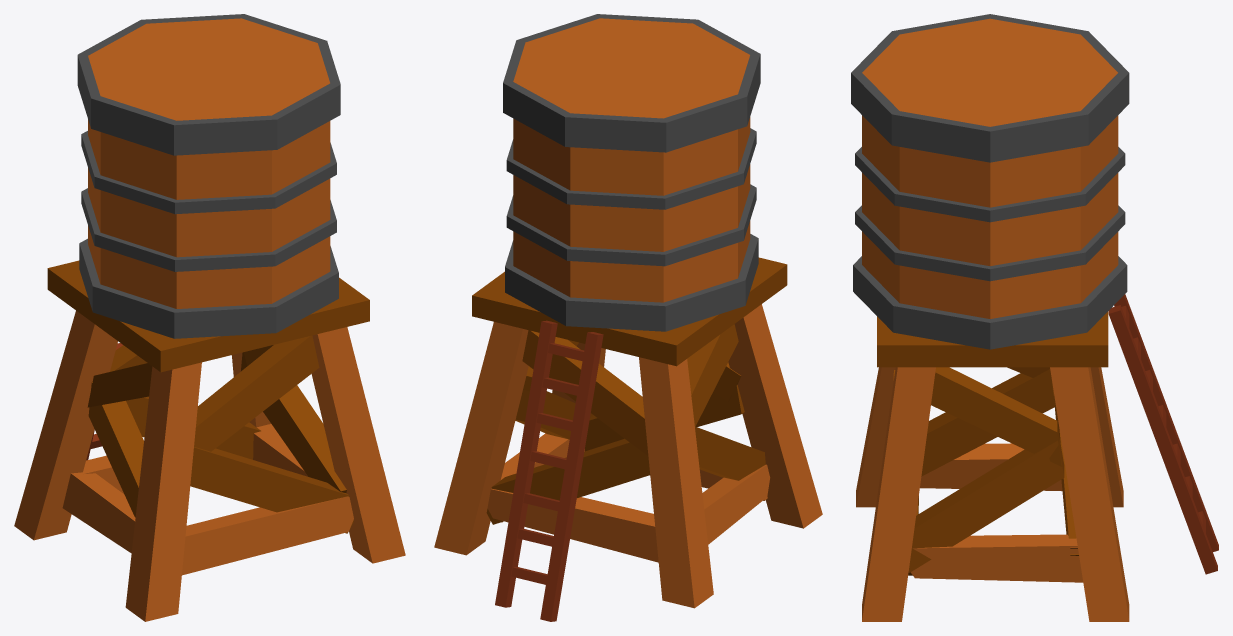
Rendered from Water_Tank.fbx.
The picture shows the model from 3 angles, left to right: view 1: azimuth 30°, elevation 25°; view 2: azimuth 150°, elevation 25°; view 3: azimuth 270°, elevation 25°; orthographic projection. The views are drawn at different scales.
Visible parts, largest first — view 1: WaterTank; view 2: WaterTank; view 3: WaterTank.
Part boxes in pixels (<box>): WaterTank: <box>14,14,405,621</box>; WaterTank: <box>434,14,822,621</box>; WaterTank: <box>851,14,1218,621</box>.
Size of the model in its own units: 143 by 249 by 169.
